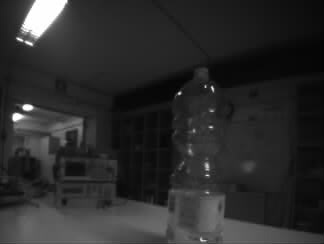Bottle: (165, 67, 226, 244)
